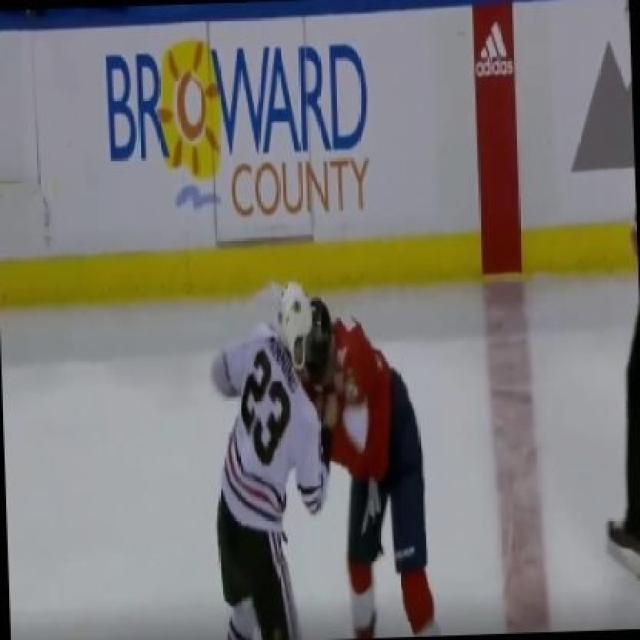fight: (188, 271, 450, 638)
